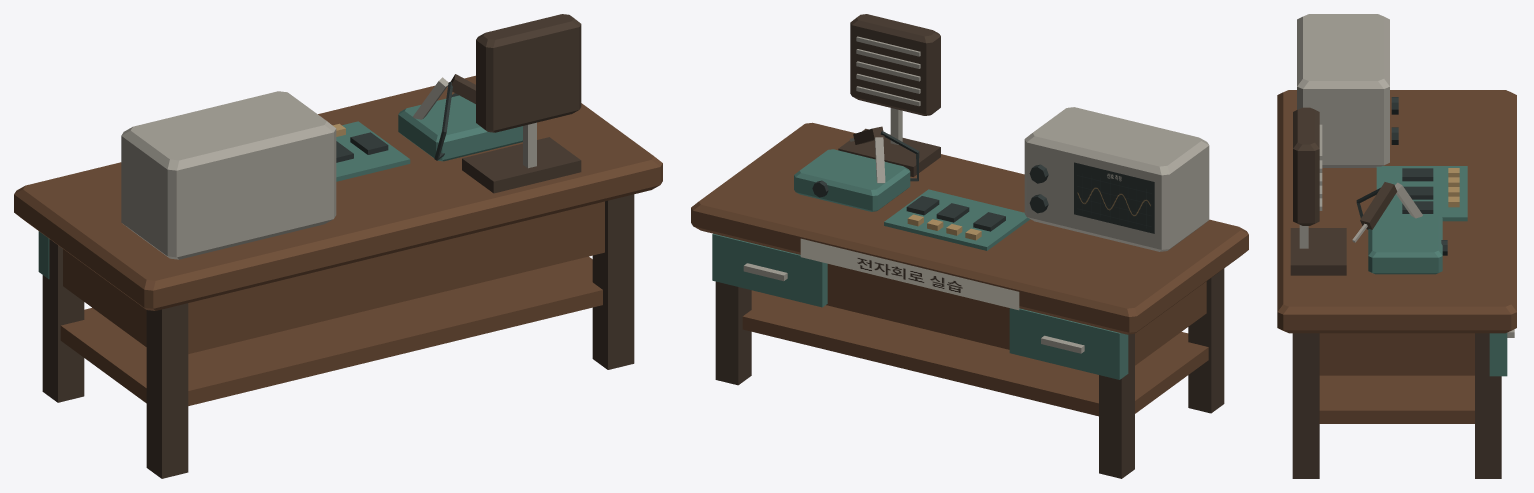
File: T05_Electronics_Workbench.fbx
The picture shows the model from 3 angles, left to right: view 1: azimuth 30°, elevation 25°; view 2: azimuth 150°, elevation 25°; view 3: azimuth 270°, elevation 25°; orthographic projection. The views are drawn at different scales.
Parts seen in each view (by area): view 1: Structure, Oscilloscope, Extractor, Solder_Station, Circuit_Board; view 2: Structure, Oscilloscope, Extractor, Solder_Station, Circuit_Board, Title; view 3: Structure, Oscilloscope, Extractor, Solder_Station, Circuit_Board.
Boxes of the visible parts, x1,y1,x2,y2 form: Structure: (14,75,662,478); Oscilloscope: (121,91,336,259); Extractor: (462,14,581,193); Solder_Station: (398,74,522,161); Circuit_Board: (333,121,410,181); Structure: (691,122,1248,478); Oscilloscope: (1024,107,1209,251); Extractor: (838,14,940,176); Solder_Station: (794,126,919,211); Circuit_Board: (884,189,1030,250); Title: (800,238,1019,310); Structure: (1277,90,1516,478); Oscilloscope: (1297,14,1398,167); Extractor: (1290,107,1346,275); Solder_Station: (1352,182,1447,274); Circuit_Board: (1376,166,1467,221).
Bounding box in the file's own units: 2.6 × 1.7 × 1.2.
Materials: 7 (1 with a texture image).
